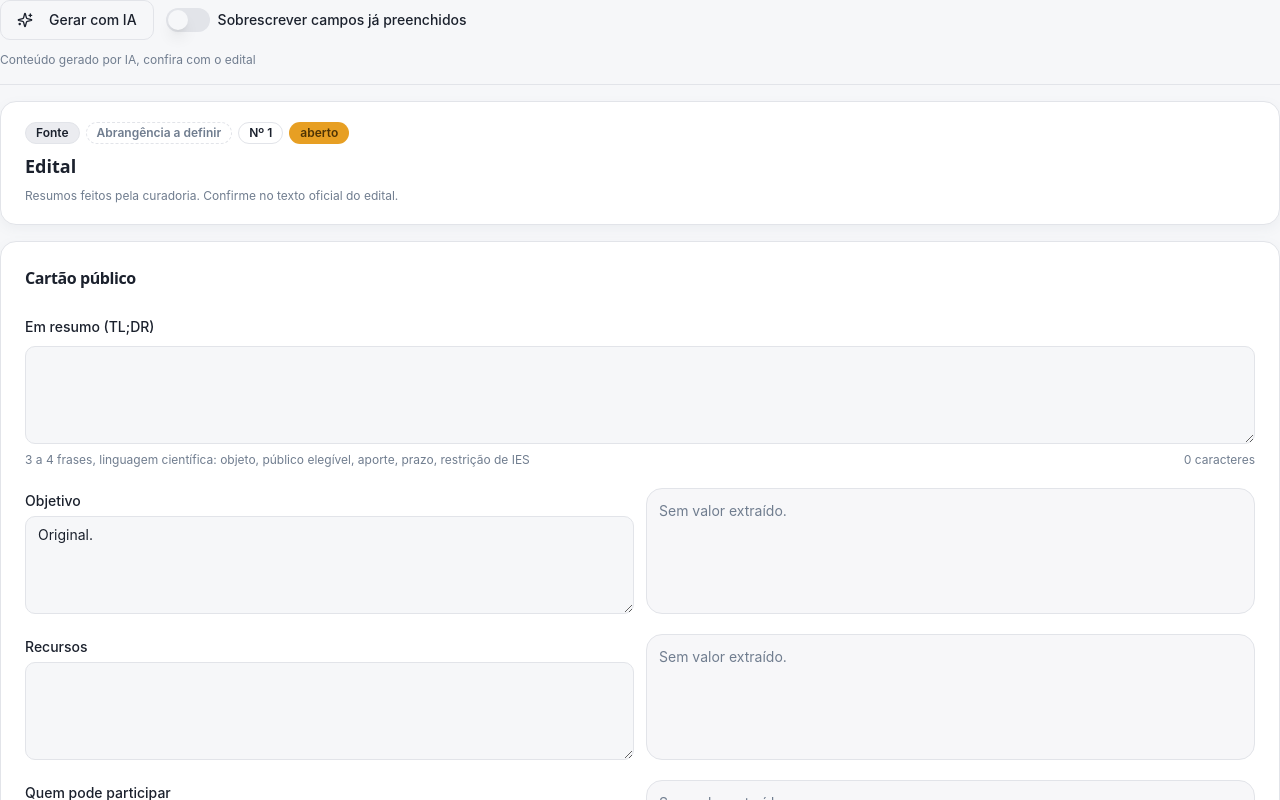
IA de curadoria: confirmação › descartar sugestão restaura o campo anterior sem gravar
Click the button "Gerar com IA": (77, 20) [0,0,154,40]
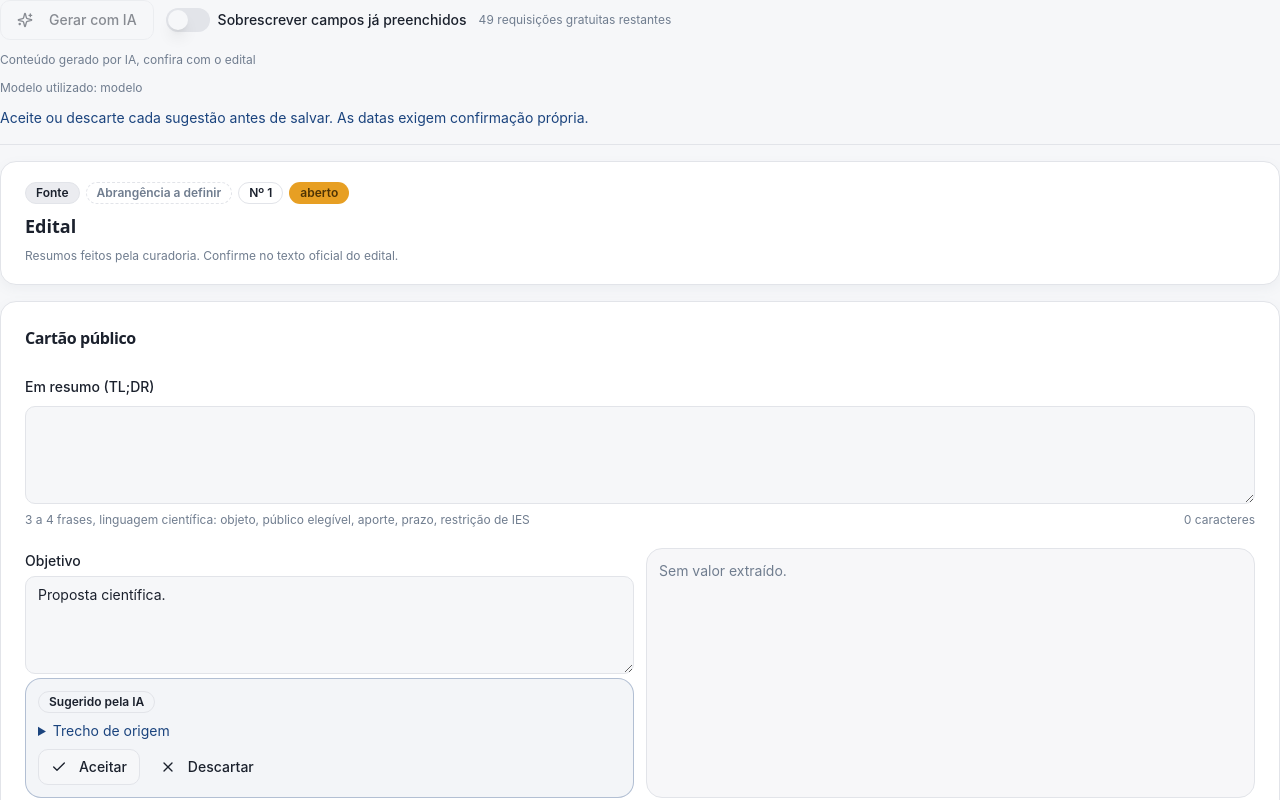
Expected: the 2nd text box holds "Proposta científica.", [25,576,634,674]
Click the button "Descartar": (207, 767) [148,749,266,785]
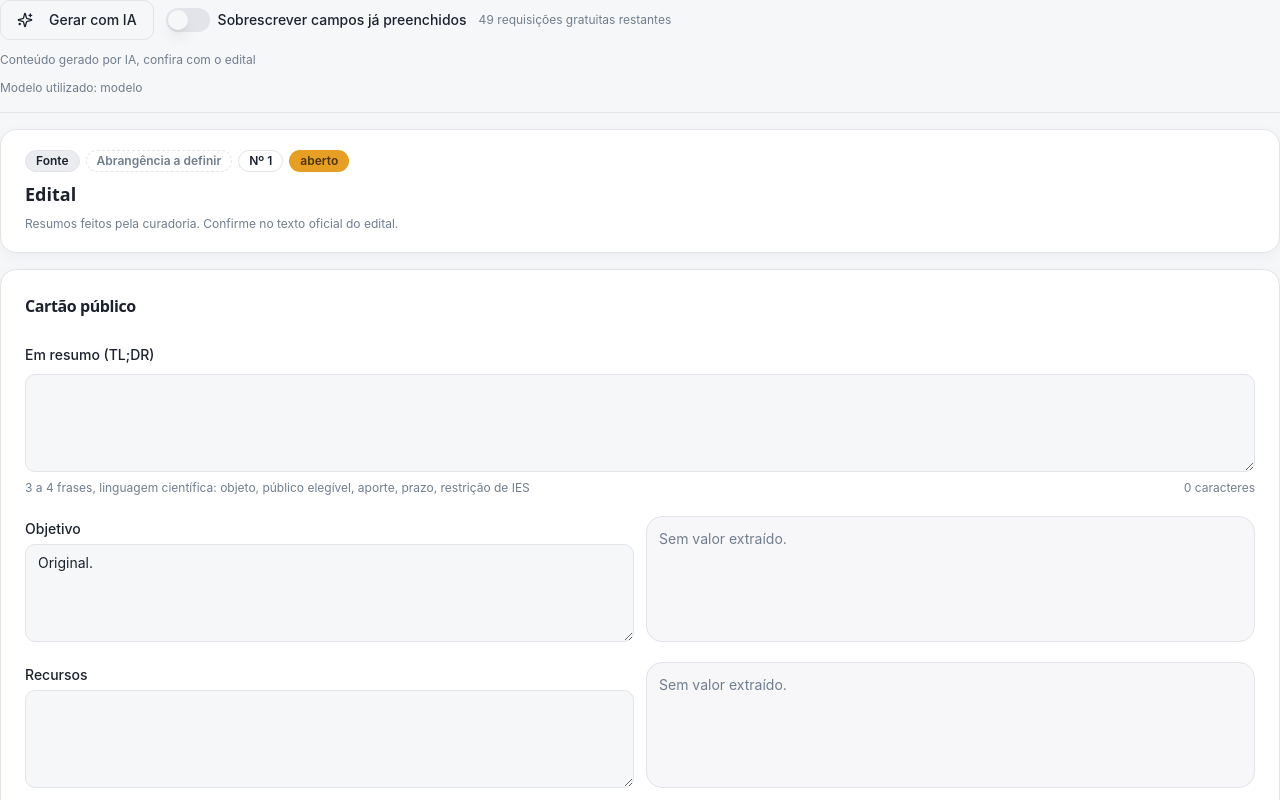
Expected: the text box below "Objetivo" holds "Original.", [25,544,634,642]
